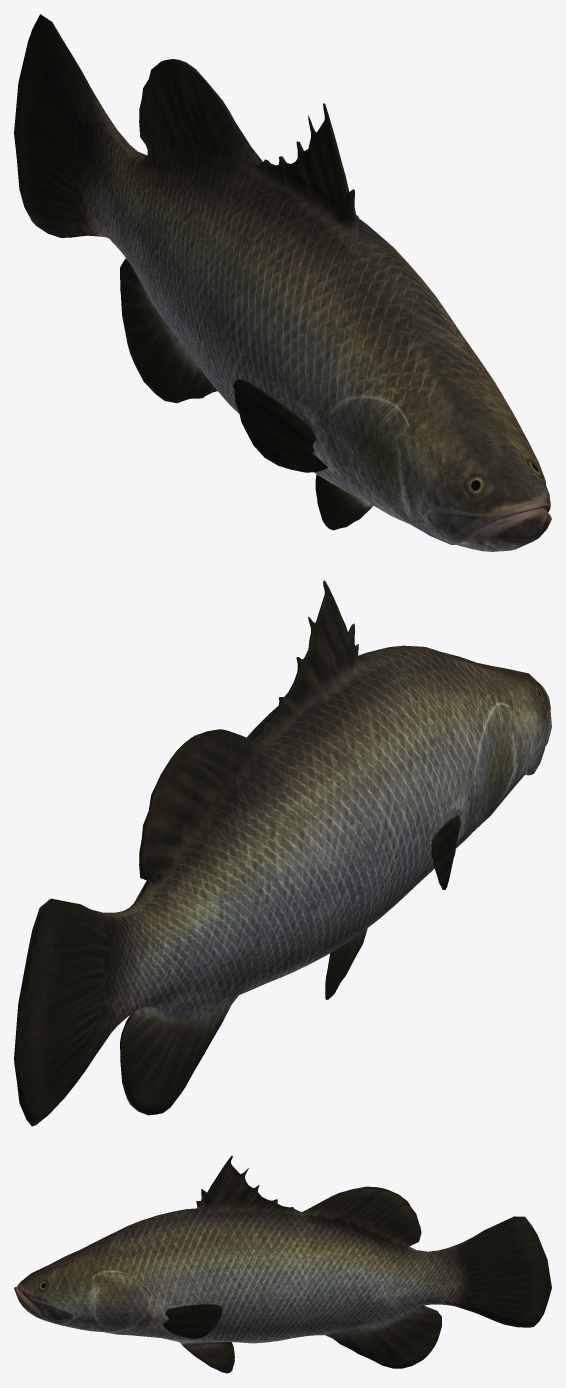
Rendered from peixe.glb.
The picture shows the model from 3 angles, top to bottom: view 1: azimuth 30°, elevation 25°; view 2: azimuth 150°, elevation 25°; view 3: azimuth 270°, elevation 25°; orthographic projection. The views are drawn at different scales.
Parts seen in each view (by area): view 1: BarramundiFish; view 2: BarramundiFish; view 3: BarramundiFish.
Boxes of the visible parts, box(x1,y1,x2,y2) form: BarramundiFish: box(14, 14, 551, 551); BarramundiFish: box(14, 580, 551, 1126); BarramundiFish: box(14, 1155, 551, 1373).
Bounding box in the file's own units: 0.1 × 0.2013 × 0.4502.
Materials: 1 (1 with a texture image).
